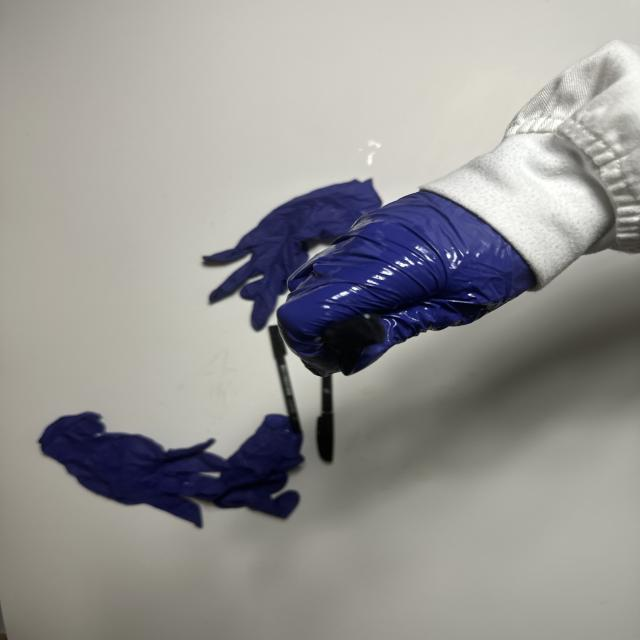gloves_contaminated: (278, 192, 534, 375)
